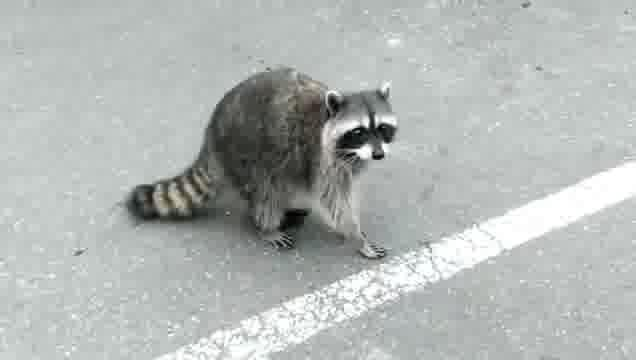raccoon: (128, 68, 401, 263)
